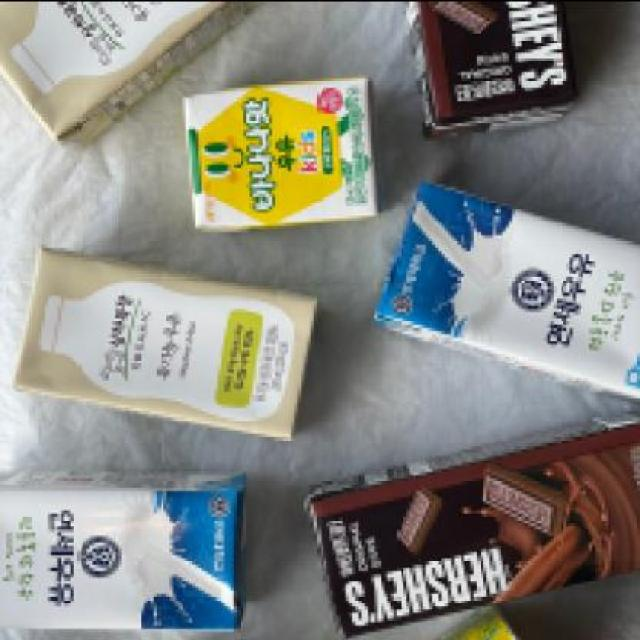tetra: (15, 224, 332, 453), (271, 444, 640, 638), (384, 165, 638, 409), (0, 463, 268, 639), (151, 76, 389, 230)
